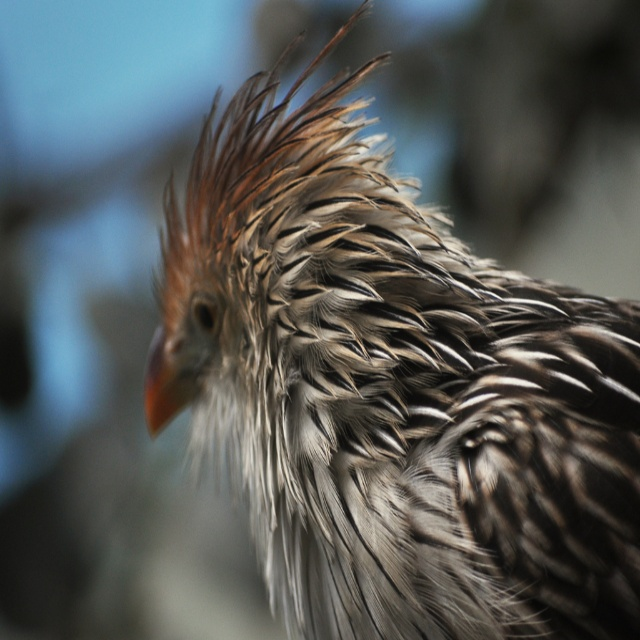Chicken: (134, 23, 611, 640)
